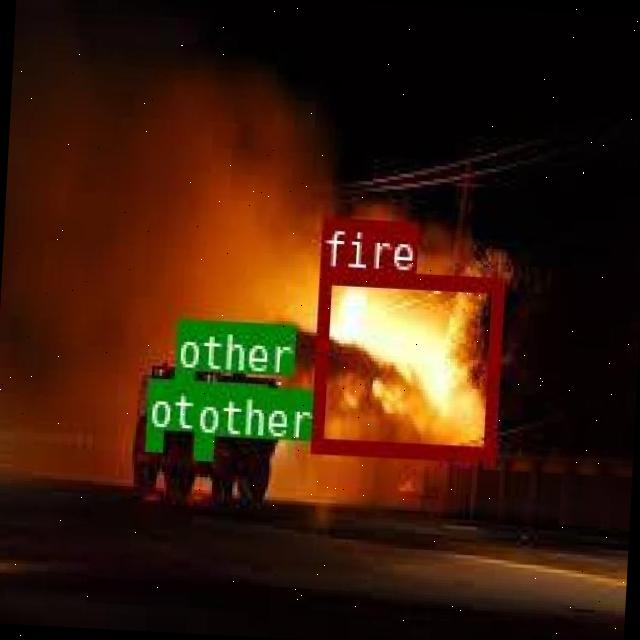fire: (310, 268, 500, 459)
